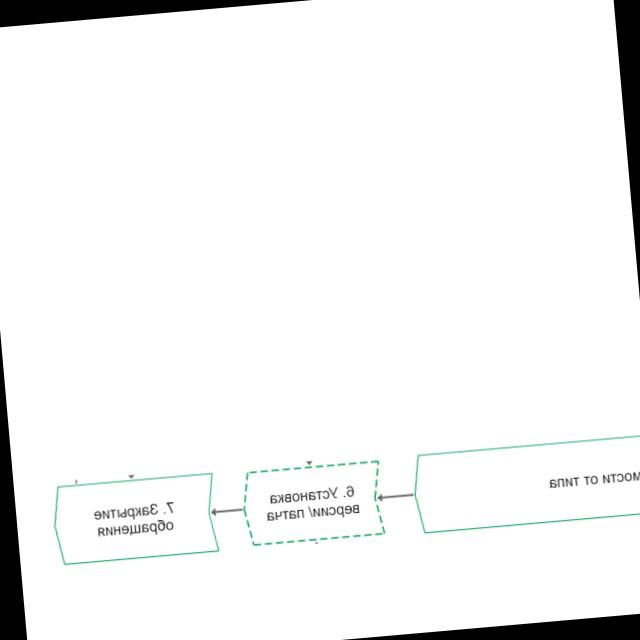arrow: (377, 491, 413, 501), (211, 505, 242, 515)
rectangle: (50, 472, 220, 566), (240, 459, 387, 548)
